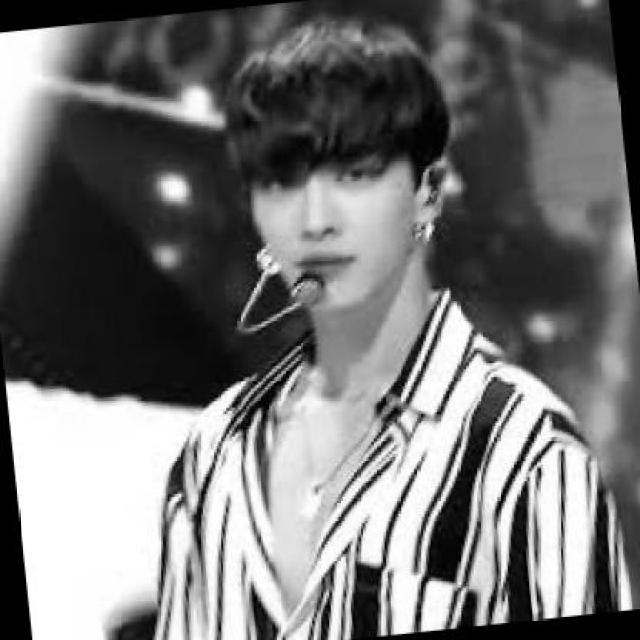earphone: (411, 161, 464, 218)
